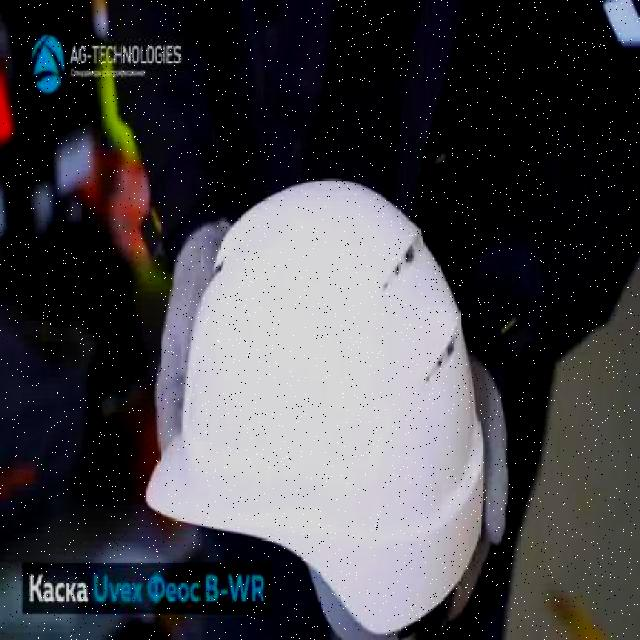Helmet: (143, 176, 486, 638)
